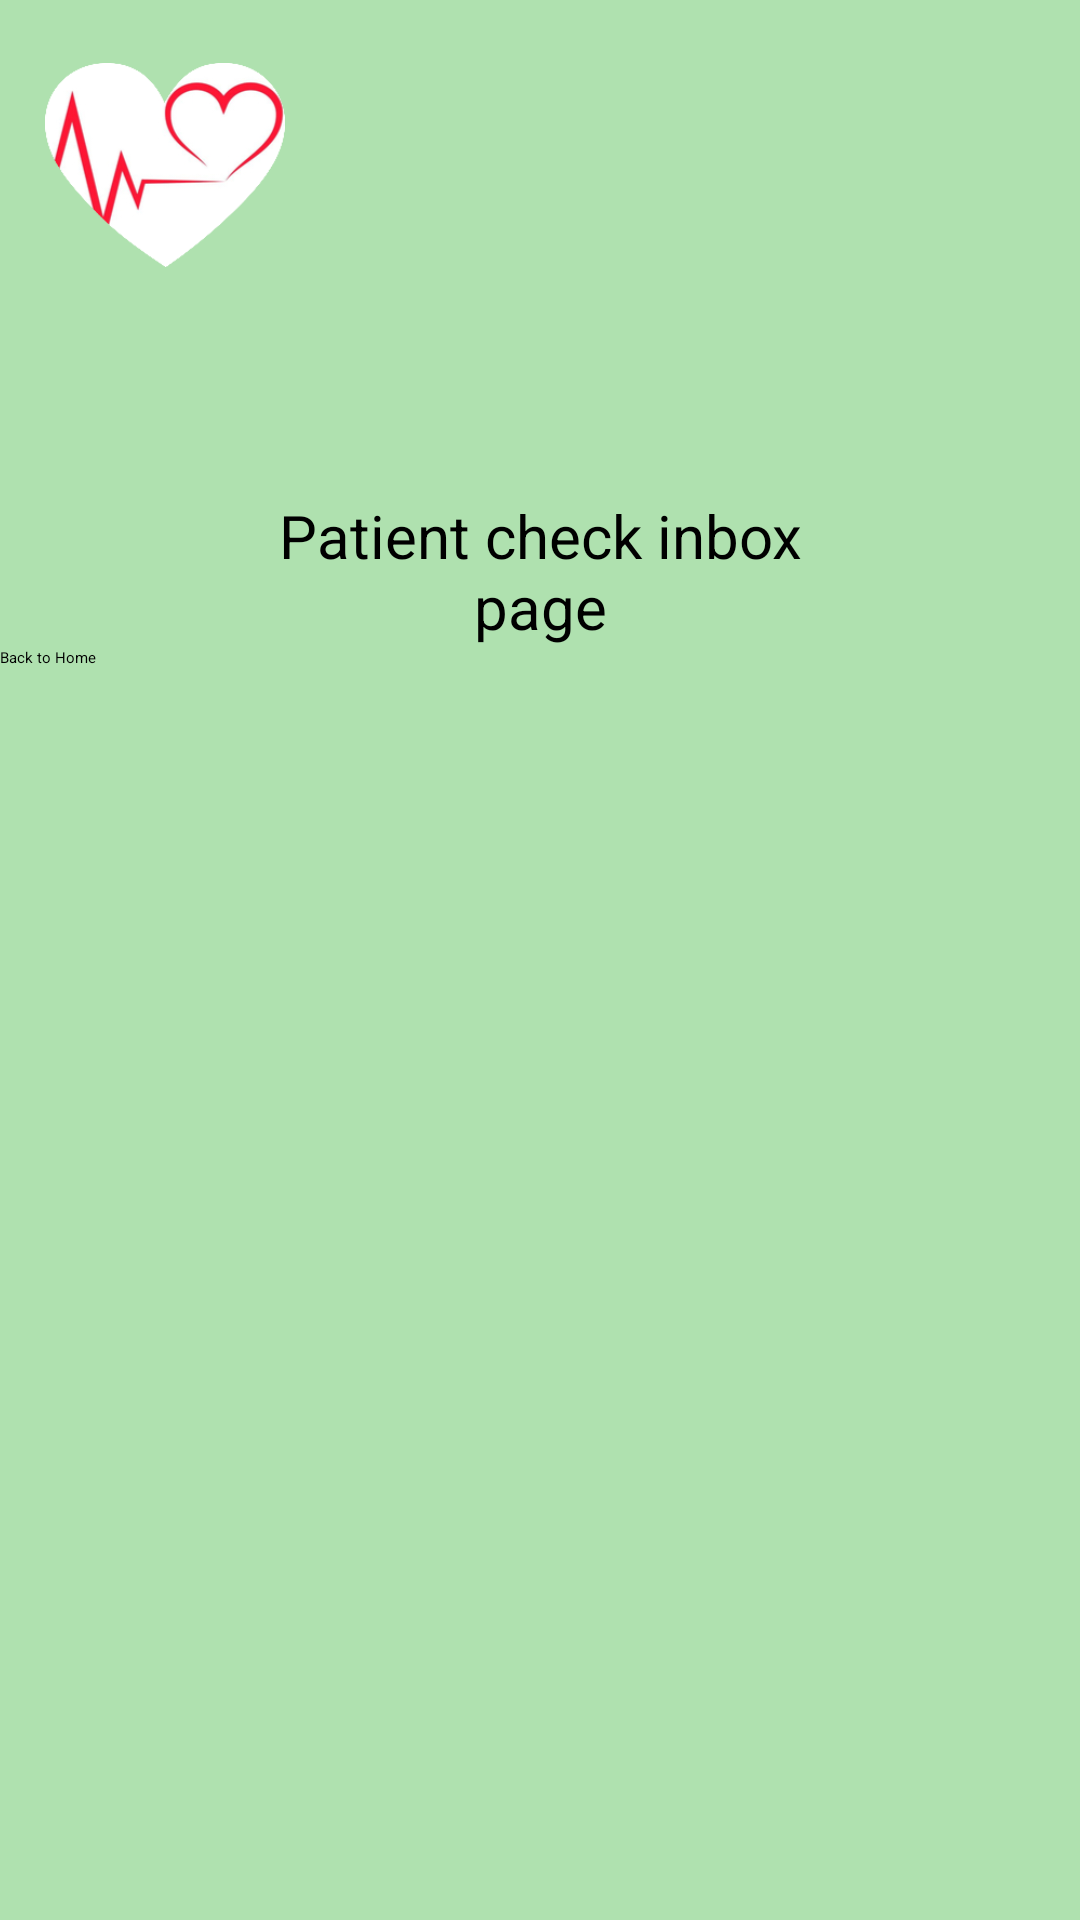

Where icons sit on this 1080w x 1920h app screen, as (x1, y1, x2, y2):
Heartbeat Image: (45, 63, 285, 267)
